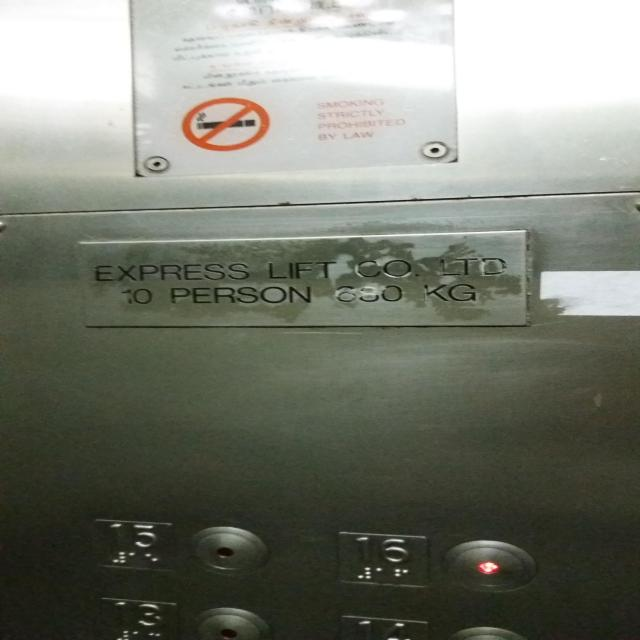13: (96, 597, 180, 640)
15: (91, 517, 177, 571)
16: (334, 530, 432, 588)
empty: (440, 540, 538, 594), (187, 524, 271, 579), (192, 606, 268, 640)
